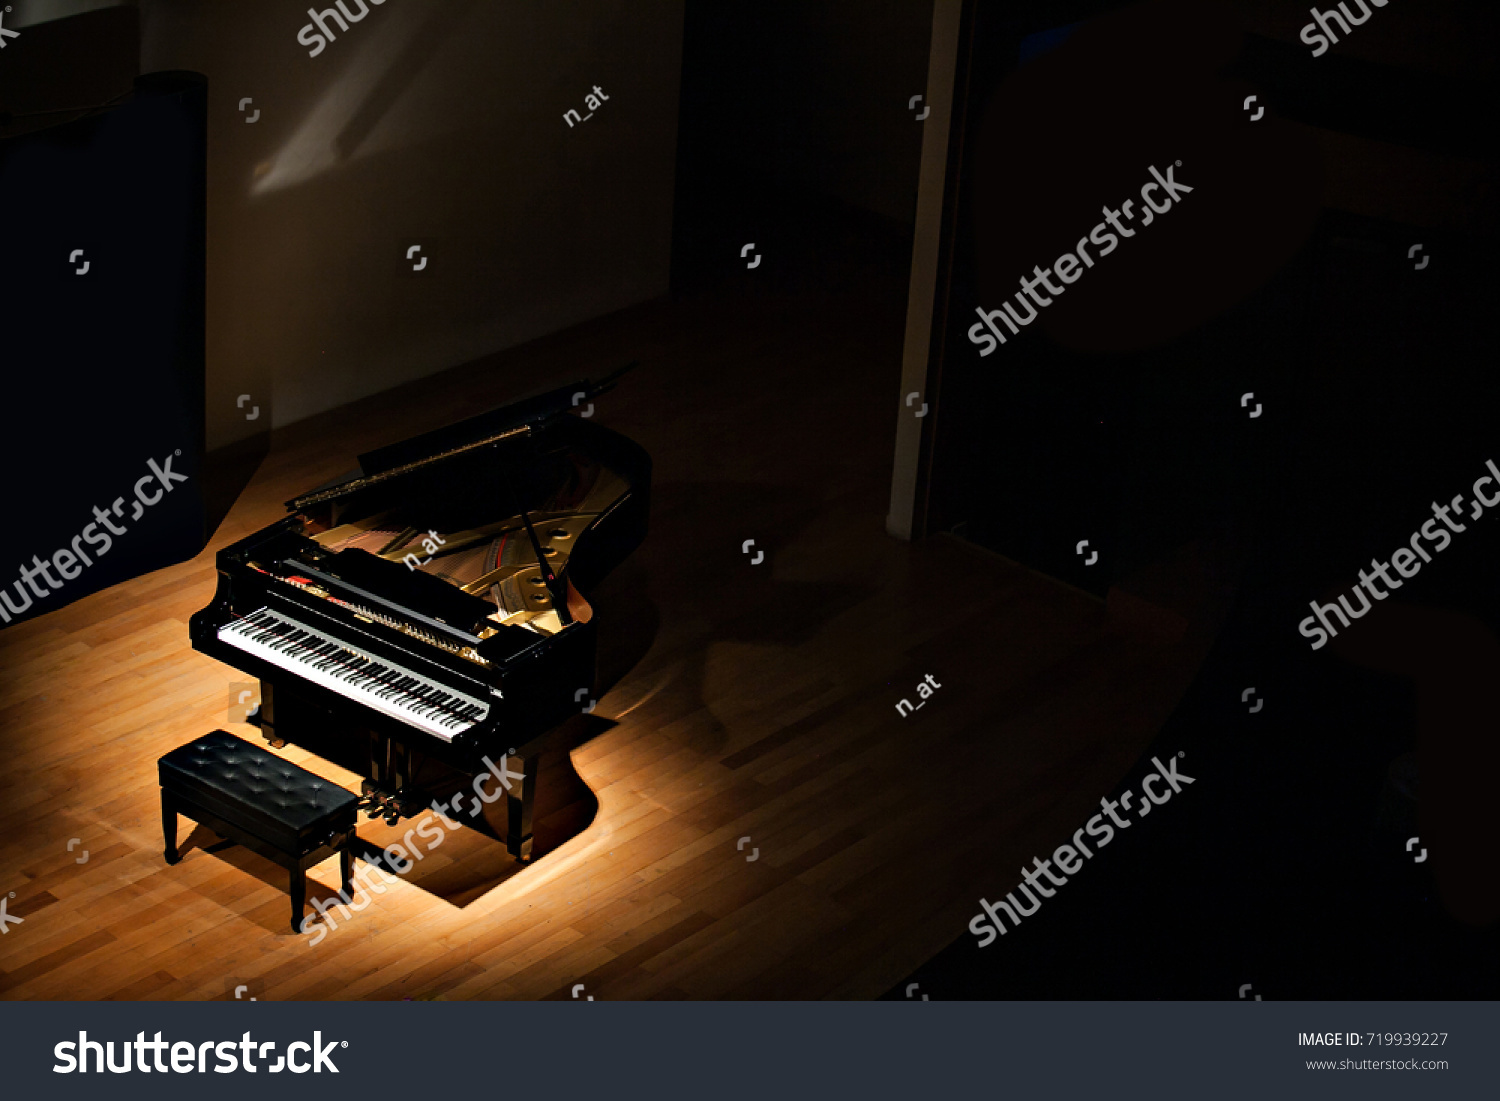Piano: (153, 370, 797, 971)
